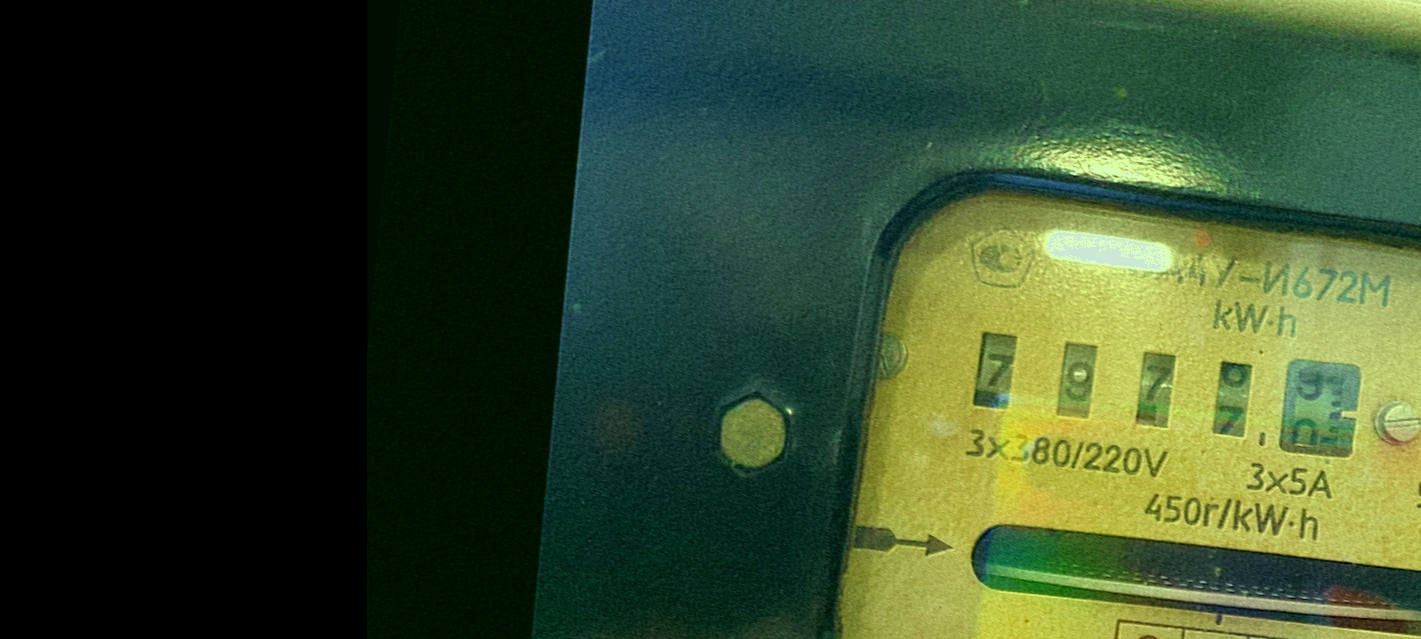0: (1289, 413, 1325, 454)
7: (1141, 362, 1176, 407), (983, 350, 1017, 395), (1215, 402, 1248, 440)
9: (1062, 358, 1100, 406), (1295, 366, 1329, 404)
screen: (951, 308, 1390, 484)
